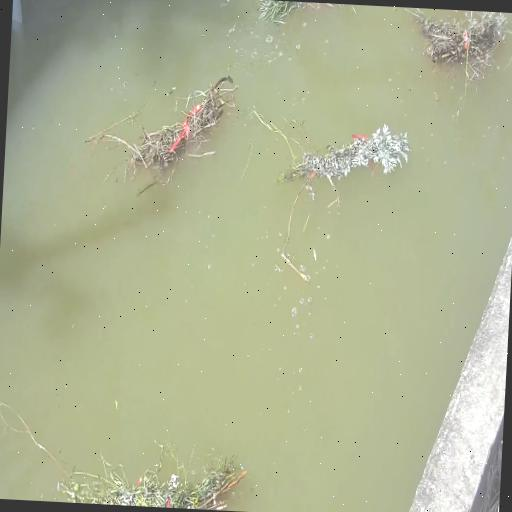twig: (118, 53, 232, 190), (266, 112, 412, 198), (52, 450, 239, 512), (405, 8, 512, 111), (260, 0, 334, 33)
